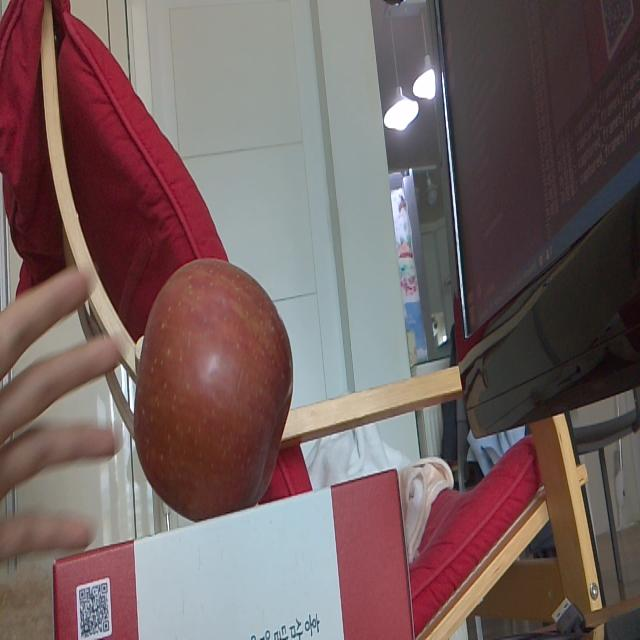apple: (135, 255, 293, 525)
